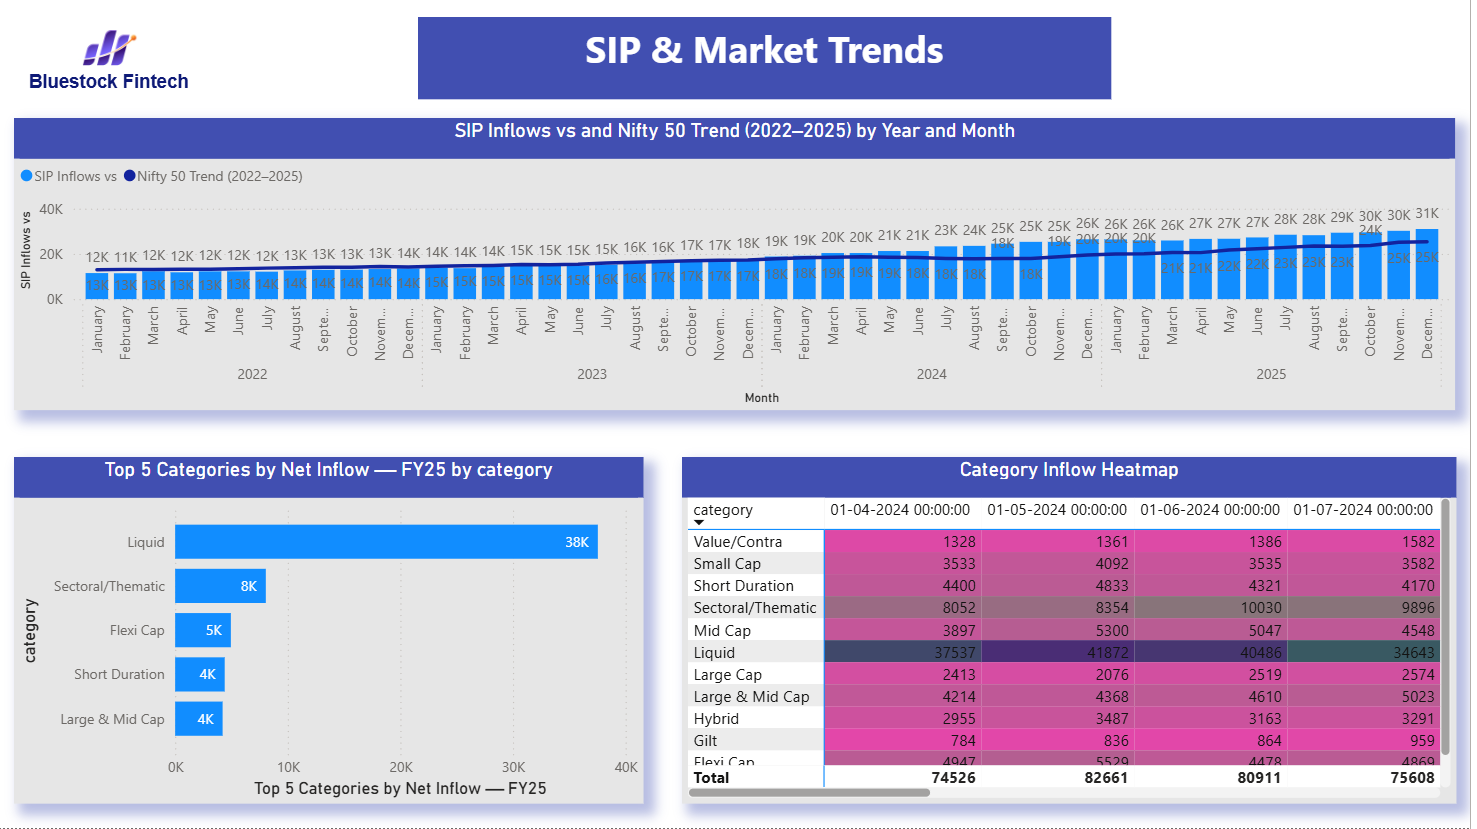

What the dashboard file says about the page in this screenshot:
{"tool":"powerbi","page":{"name":"SIP & Market Trends","canvas":[1280,720],"ordinal":3},"visuals":[{"type":"textbox","box":[372.7,20.4,597.5,70.8],"z":0},{"type":"lineClusteredColumnComboChart","fields":{"Y":["Sum(monthly_sip_inflows_clean.sip_inflow_crore)"],"Category":["Date_Table.Date.Variation.Date Hierarchy.Year","Date_Table.Date.Variation.Date Hierarchy.Month"],"Y2":["Avg(benchmark_indices_clean.close_value)"]},"box":[24.4,107.8,1243.3,252.2],"z":1000},{"type":"pivotTable","title":"Category Inflow Heatmap","fields":{"Rows":["category_inflows_clean.category"],"Values":["Sum(category_inflows_clean.net_inflow_crore)"],"Columns":["category_inflows_clean.Date"]},"box":[600,400,667.8,298.9],"z":2000},{"type":"clusteredBarChart","fields":{"Category":["category_inflows_clean.category"],"Y":["Sum(category_inflows_clean.net_inflow_crore)"]},"box":[24.4,400,542.5,298.8],"z":3000},{"type":"image","box":[13.3,16.7,186.7,61.7],"z":4000},{"type":"textbox","box":[23.3,63.3,165,28.3],"z":5000}]}

Visuals, with their boxes in screenshot pixels (x1, y1, x2, y2), scaled from the page's 1280x720 canvas onto the 1477x829 screenshot:
textbox: <region>430, 23, 1120, 105</region>
lineClusteredColumnComboChart - Sum(monthly_sip_inflows_clean.sip_inflow_crore) x Date_Table.Date.Variation.Date Hierarchy.Year: <region>28, 124, 1463, 414</region>
"Category Inflow Heatmap" pivotTable: <region>692, 461, 1463, 805</region>
clusteredBarChart - category_inflows_clean.category x Sum(category_inflows_clean.net_inflow_crore): <region>28, 461, 654, 805</region>
image: <region>15, 19, 231, 90</region>
textbox: <region>27, 73, 217, 105</region>
